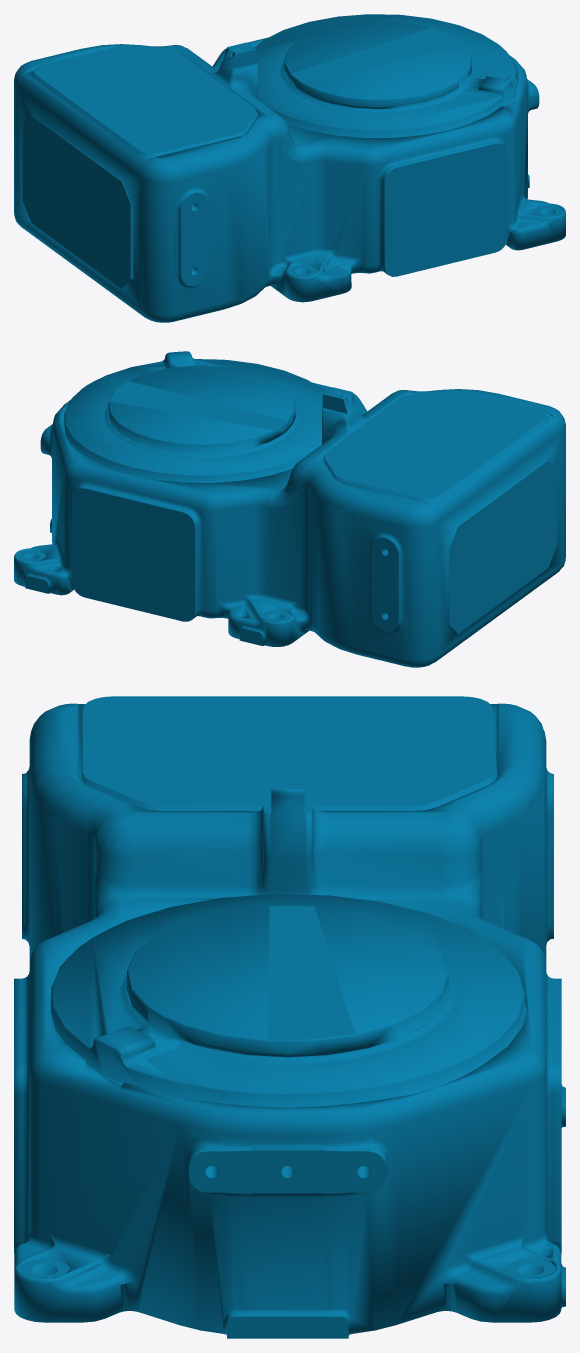
3 views of the same model, one above another, from view 1: azimuth 30°, elevation 25°; view 2: azimuth 150°, elevation 25°; view 3: azimuth 270°, elevation 25° (orthographic). The views are drawn at different scales.
Visible parts, largest first — view 1: mesh_shell_11__LOD_0_; view 2: mesh_shell_11__LOD_0_; view 3: mesh_shell_11__LOD_0_.
Part boxes in pixels (x1,y1,x2,y2): mesh_shell_11__LOD_0_: (14,14,565,322); mesh_shell_11__LOD_0_: (14,351,565,667); mesh_shell_11__LOD_0_: (14,696,565,1338).
Bounding box in the file's own units: 0.5684 × 0.3632 × 0.24.
